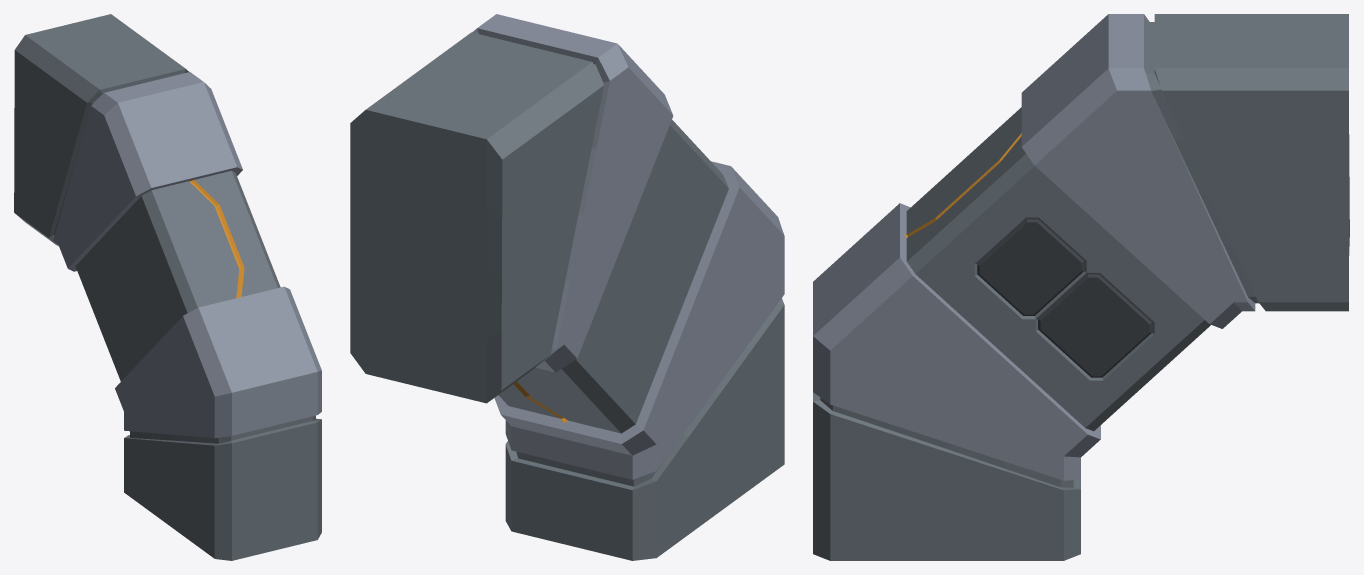
The model's file is SM_Corner_wall_ventilation.glb.
3 renders of one model, left to right at view 1: azimuth 30°, elevation 25°; view 2: azimuth 150°, elevation 25°; view 3: azimuth 270°, elevation 25°, orthographic. The views are drawn at different scales.
Visible parts, largest first — view 1: SM_Corner_wall_ventilation; view 2: SM_Corner_wall_ventilation; view 3: SM_Corner_wall_ventilation.
Part boxes in pixels (box(x1,y1,x2,y2)): SM_Corner_wall_ventilation: box(14, 14, 321, 560); SM_Corner_wall_ventilation: box(350, 14, 784, 560); SM_Corner_wall_ventilation: box(813, 14, 1349, 560).
Bounding box in the file's own units: 0.3 × 1 × 1.
1 material, 1 textured.
